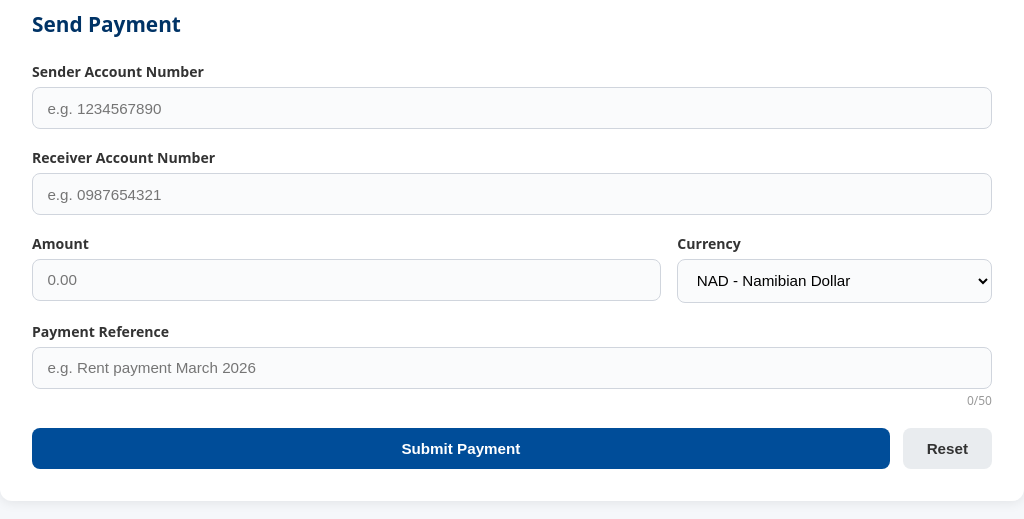
Scenario: PaymentForm › Reset functionality › clears all form fields on reset
Type "1234567890" into the field labelled "Sender Account Number" at {"x": 512, "y": 108}, box [32,87,992,129]
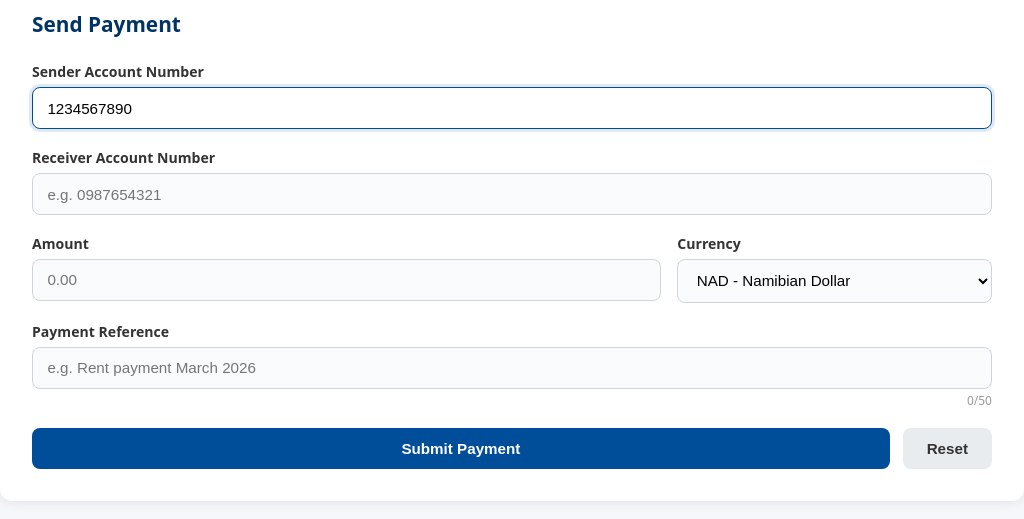
Type "0987654321" into the field labelled "Receiver Account Number" at {"x": 512, "y": 194}, box [32,173,992,215]
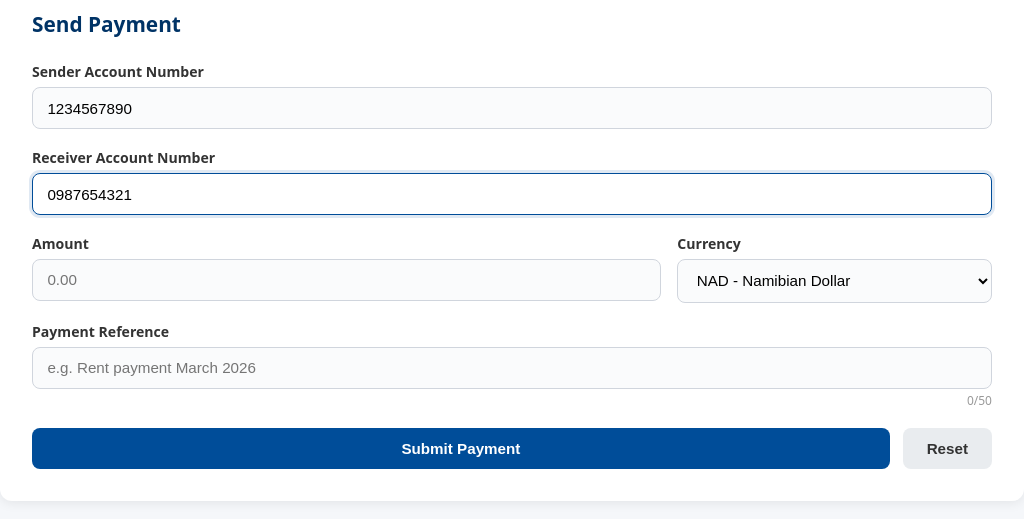
Type "150" into the number field labelled "Amount" at {"x": 347, "y": 280}, box [32,259,661,301]
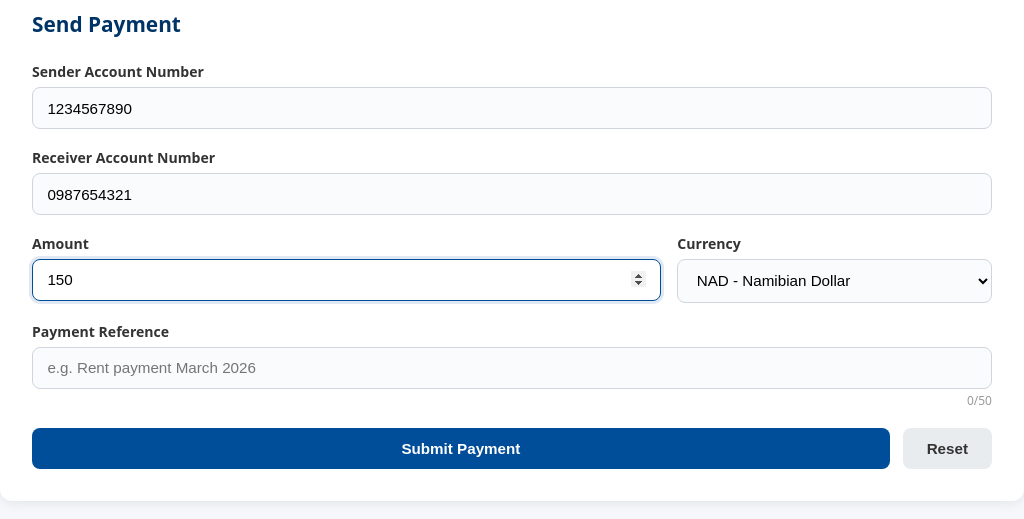
Type "Rent payment March 2026" into the field labelled "Payment Reference" at {"x": 512, "y": 368}, box [32,347,992,389]
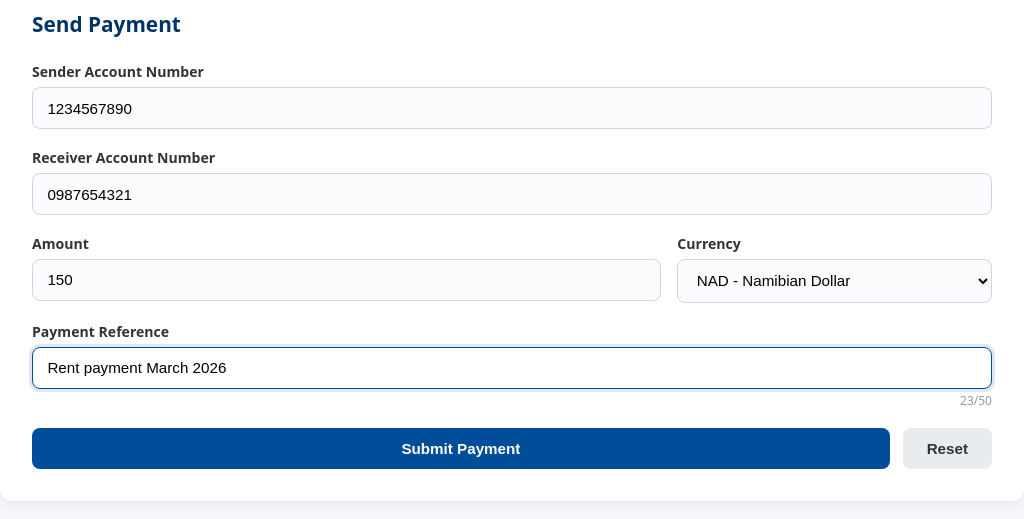
Click the button "Reset" at {"x": 947, "y": 448}, box [903,428,992,469]
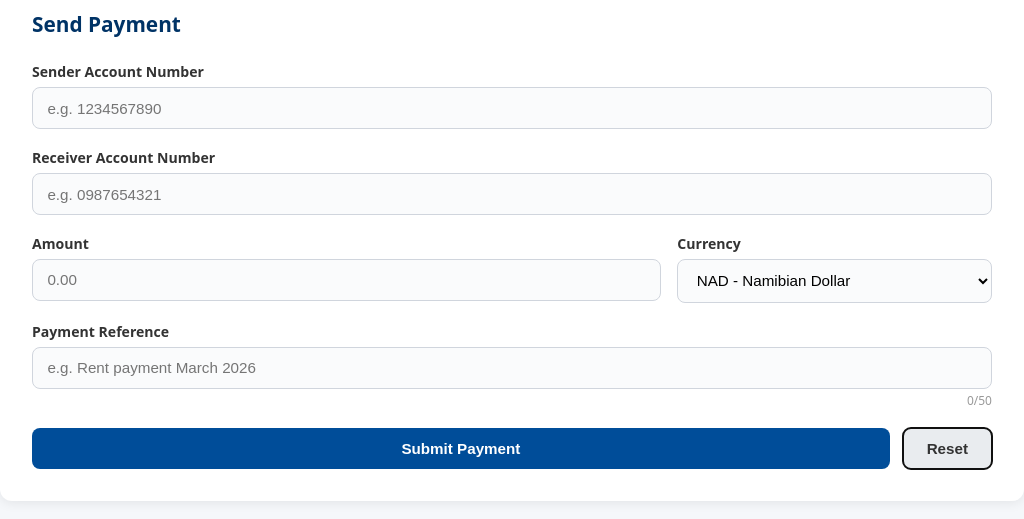
Expected: the field labelled "Sender Account Number" is empty, [32,87,992,129]
Expected: the field labelled "Receiver Account Number" is empty, [32,173,992,215]
Expected: the number field labelled "Amount" is empty, [32,259,661,301]
